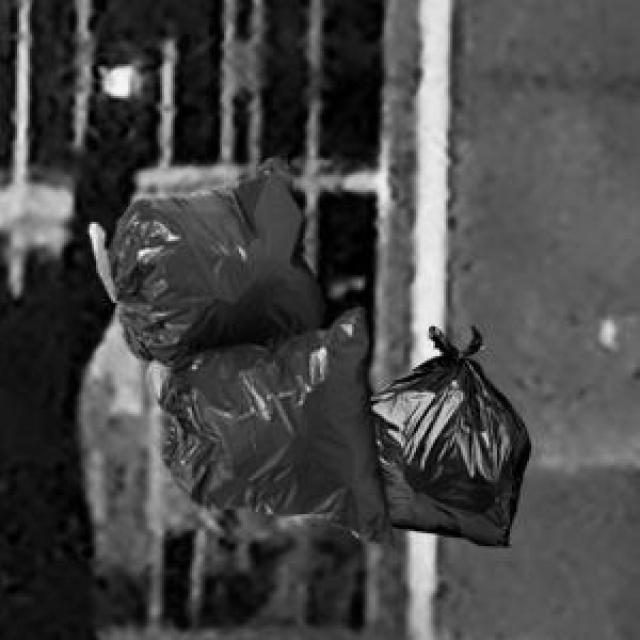miscellaneous trash: (85, 153, 389, 544), (367, 322, 527, 542)
